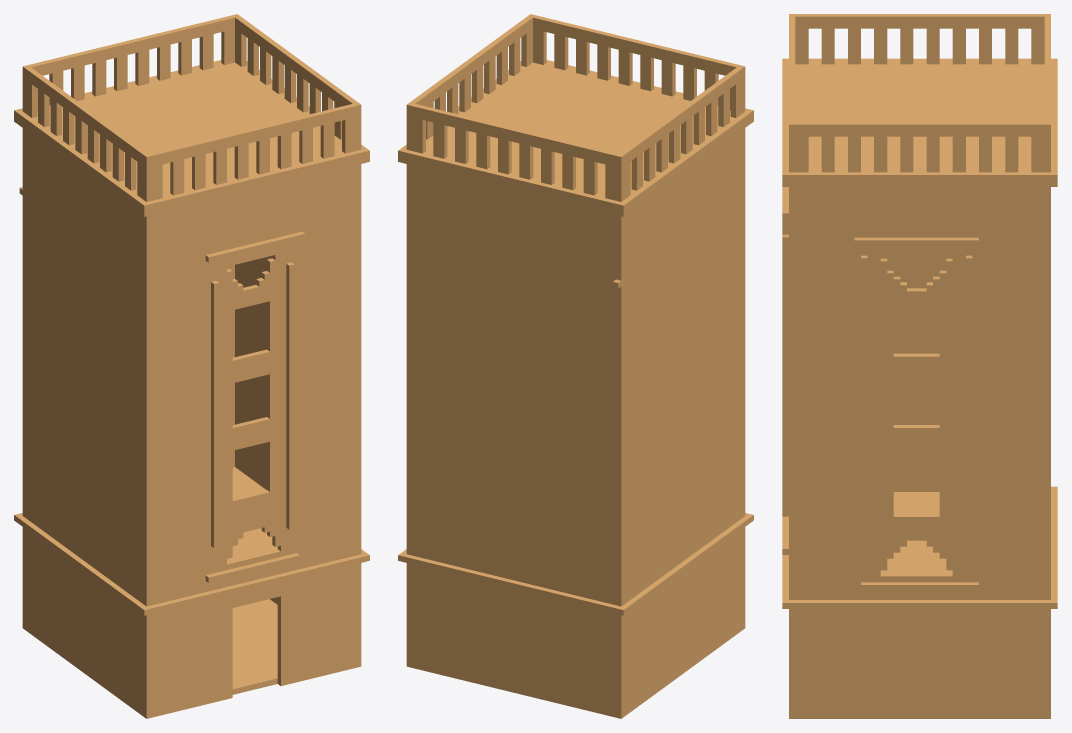
File: torre modelação.obj
3 renders of one model, left to right at view 1: azimuth 30°, elevation 25°; view 2: azimuth 150°, elevation 25°; view 3: azimuth 270°, elevation 25°, orthographic. The views are drawn at different scales.
Size of the model in its own units: 4.2 by 10 by 4.2.
